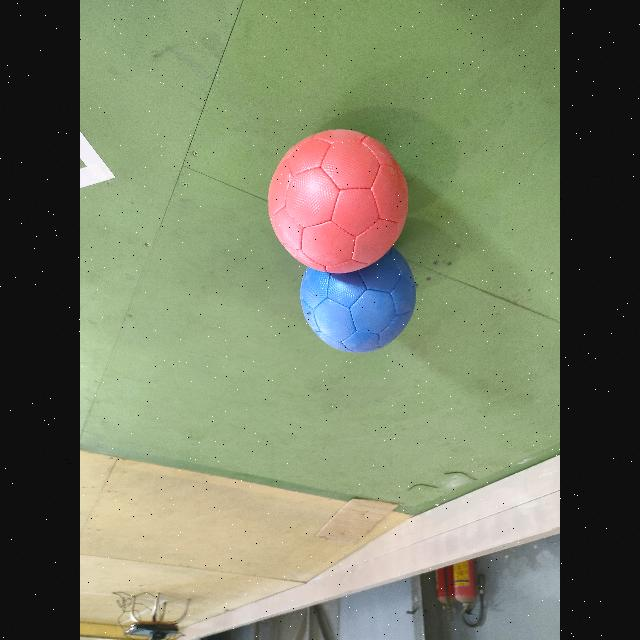B: (300, 248, 416, 353)
R: (268, 130, 408, 274)
